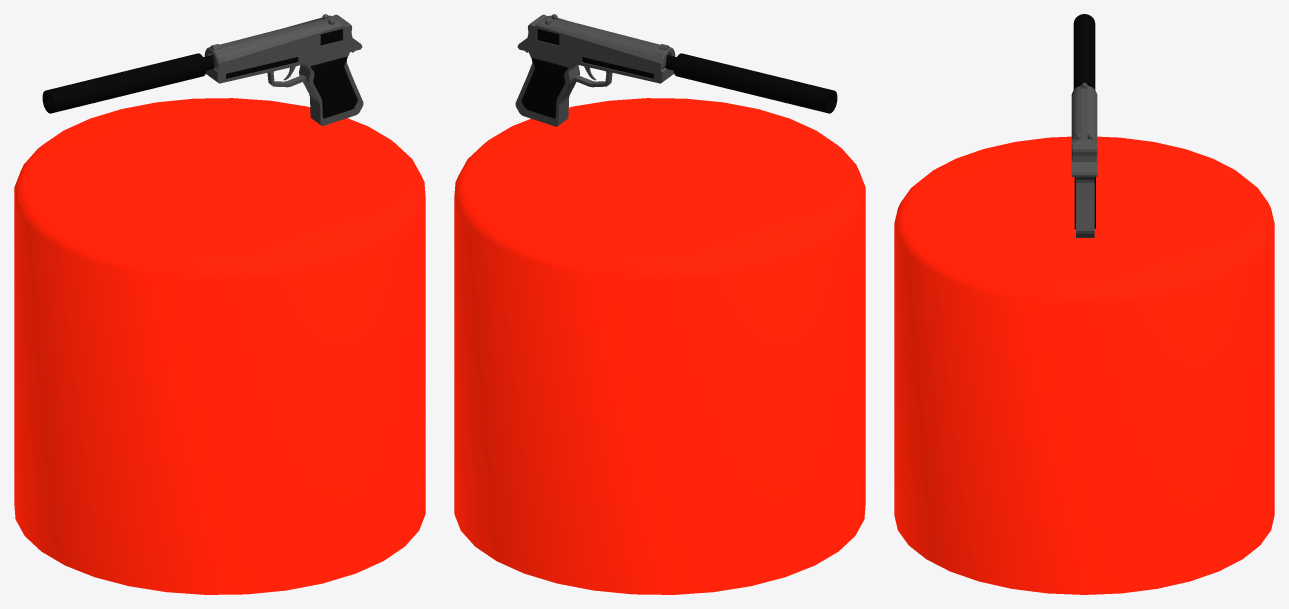
The model's file is PistolPedastal.fbx.
The picture shows the model from 3 angles, left to right: view 1: azimuth 30°, elevation 25°; view 2: azimuth 150°, elevation 25°; view 3: azimuth 270°, elevation 25°; orthographic projection. The views are drawn at different scales.
Visible parts, largest first — view 1: Cylinder.001, Cube, Cylinder, Cube.001; view 2: Cylinder.001, Cube, Cylinder, Cube.001; view 3: Cylinder.001, Cube.001, Cube, Cylinder.
Part boxes in pixels (x1,y1,x2,y2): Cylinder.001: (14, 98, 425, 594); Cube: (206, 38, 363, 126); Cylinder: (42, 53, 214, 113); Cube.001: (204, 14, 352, 70); Cylinder.001: (454, 98, 865, 594); Cube: (515, 38, 673, 126); Cylinder: (665, 53, 837, 113); Cube.001: (527, 14, 675, 70); Cylinder.001: (894, 136, 1274, 594); Cube.001: (1071, 82, 1097, 161); Cube: (1071, 162, 1097, 237); Cylinder: (1073, 14, 1095, 89).
Size of the model in its own units: 1093 by 1358 by 1093.
